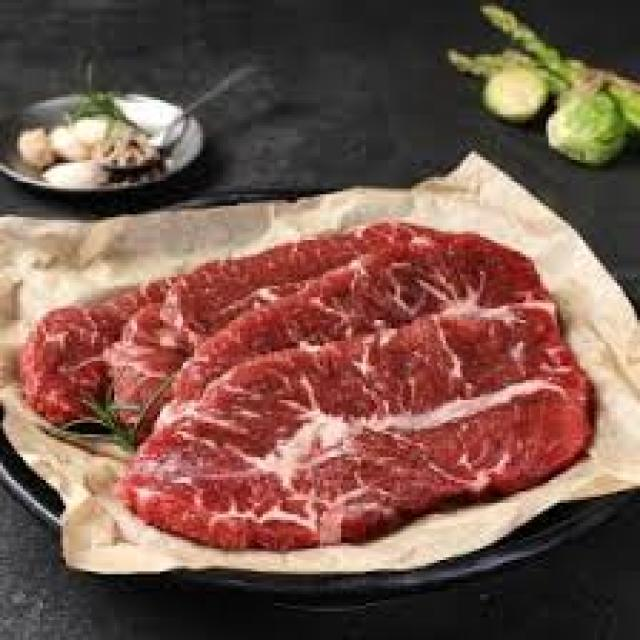Beef: (117, 301, 594, 550)
